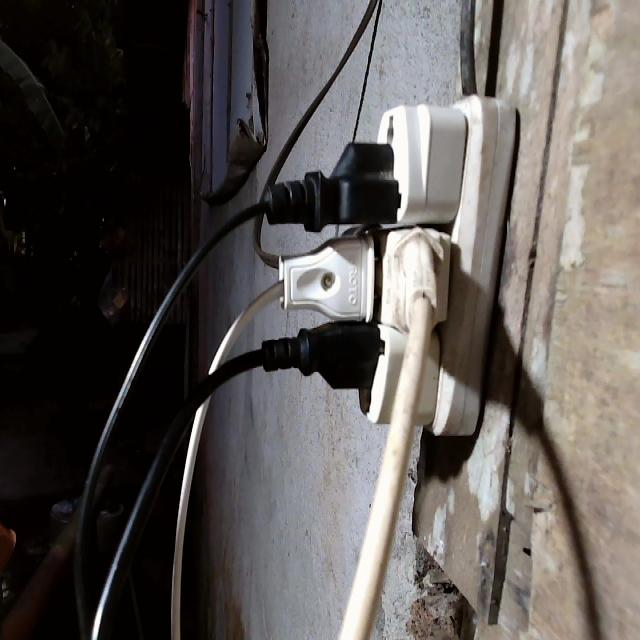-: (251, 92, 524, 439)
